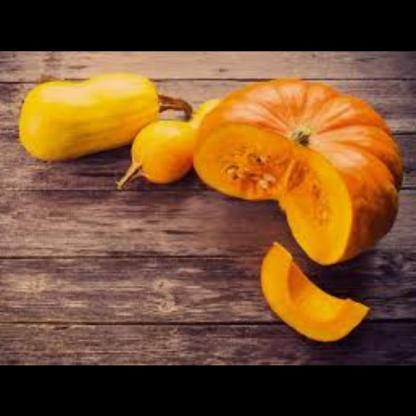pumpkin: (192, 73, 406, 265), (18, 68, 170, 166), (258, 239, 374, 349), (120, 100, 226, 187)
